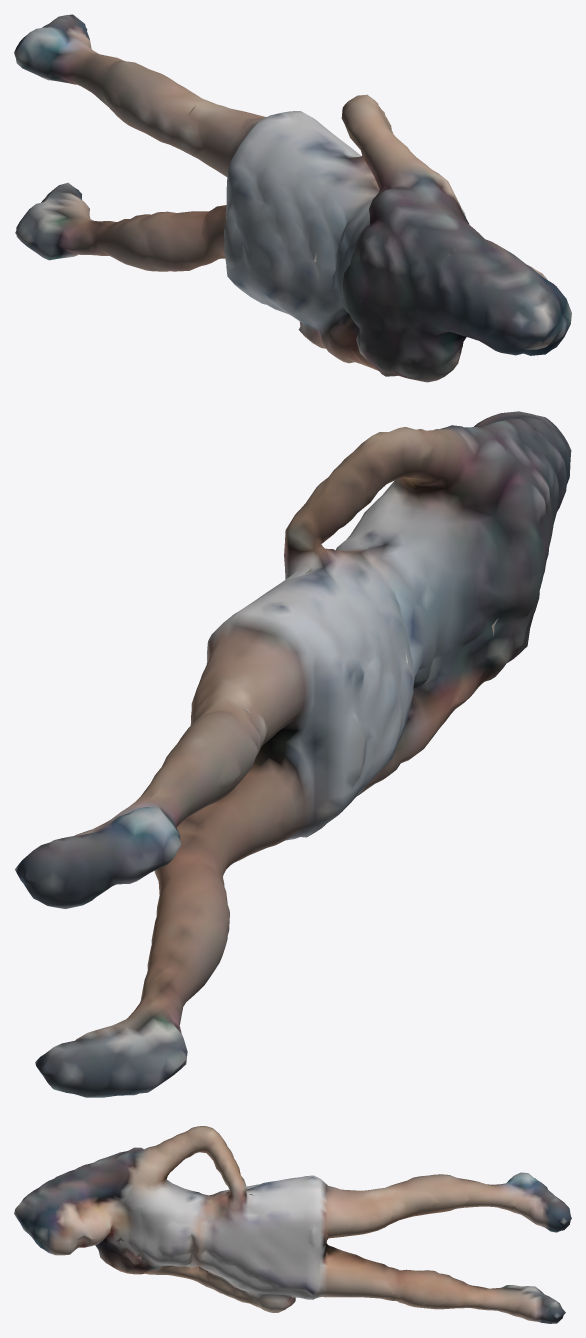
Rendered from ariana-clean.blend-clean.glb.
The picture shows the model from 3 angles, top to bottom: view 1: azimuth 30°, elevation 25°; view 2: azimuth 150°, elevation 25°; view 3: azimuth 270°, elevation 25°; orthographic projection. The views are drawn at different scales.
Visible parts, largest first — view 1: avatar_merged; view 2: avatar_merged; view 3: avatar_merged.
Boxes of the visible parts, x1,y1,x2,y2 form: avatar_merged: (14, 14, 571, 382); avatar_merged: (15, 411, 571, 1097); avatar_merged: (14, 1126, 571, 1323).
Size of the model in its own units: 0.9472 by 1.8 by 4.46.
